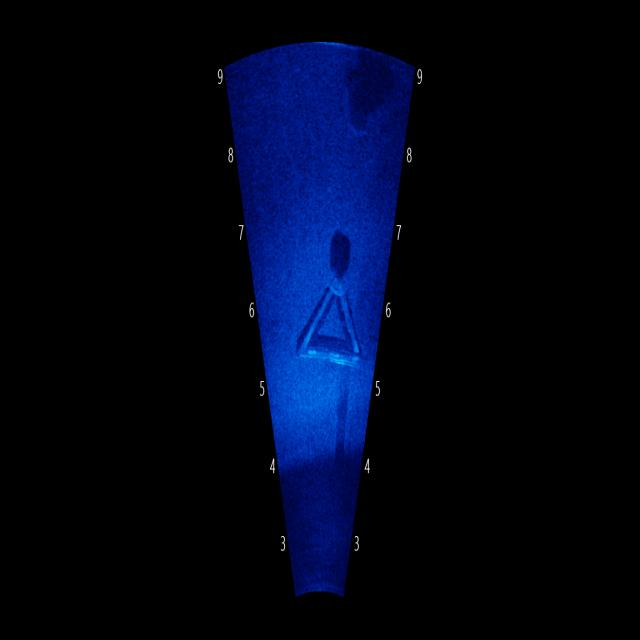triangle: (294, 230, 367, 406)
